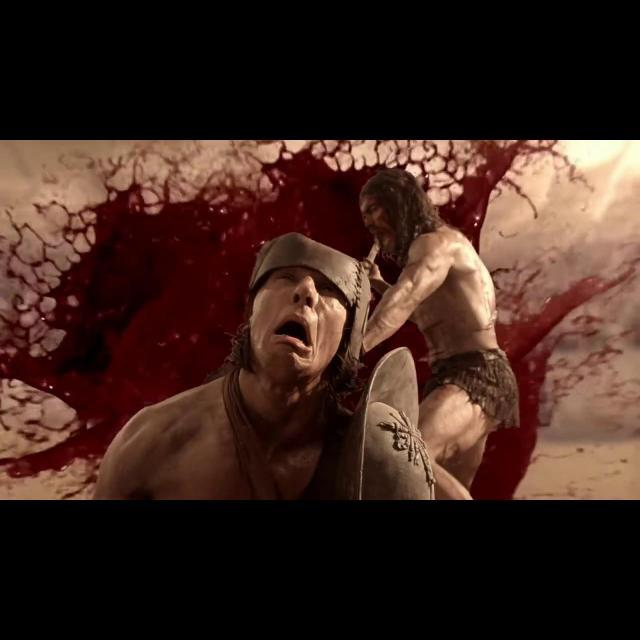blood: (0, 140, 640, 499)
